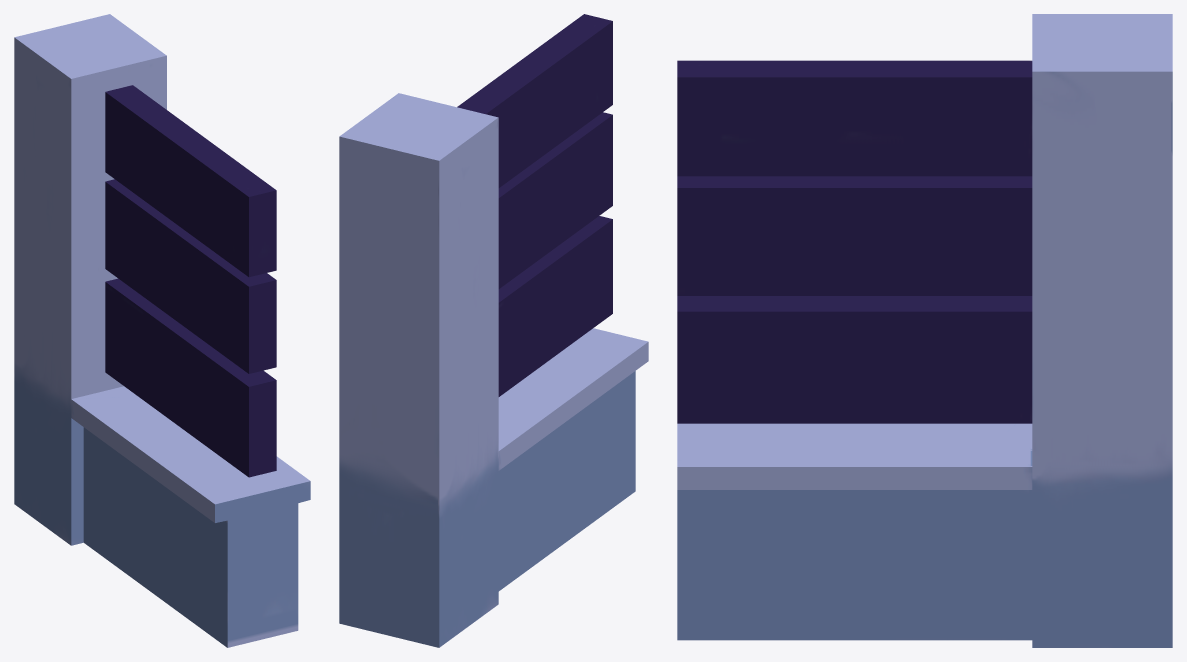
Rendered from SM_ARCH_Fences01_V01.fbx.
The picture shows the model from 3 angles, left to right: view 1: azimuth 30°, elevation 25°; view 2: azimuth 150°, elevation 25°; view 3: azimuth 270°, elevation 25°; orthographic projection. The views are drawn at different scales.
Parts seen in each view (by area): view 1: SM_fence; view 2: SM_fence; view 3: SM_fence.
Boxes of the visible parts, <box> form: SM_fence: <box>14,14,310,647</box>; SM_fence: <box>339,14,648,647</box>; SM_fence: <box>677,14,1172,647</box>.
Size of the model in its own units: 46.48 by 217 by 169.
1 material, 1 textured.
